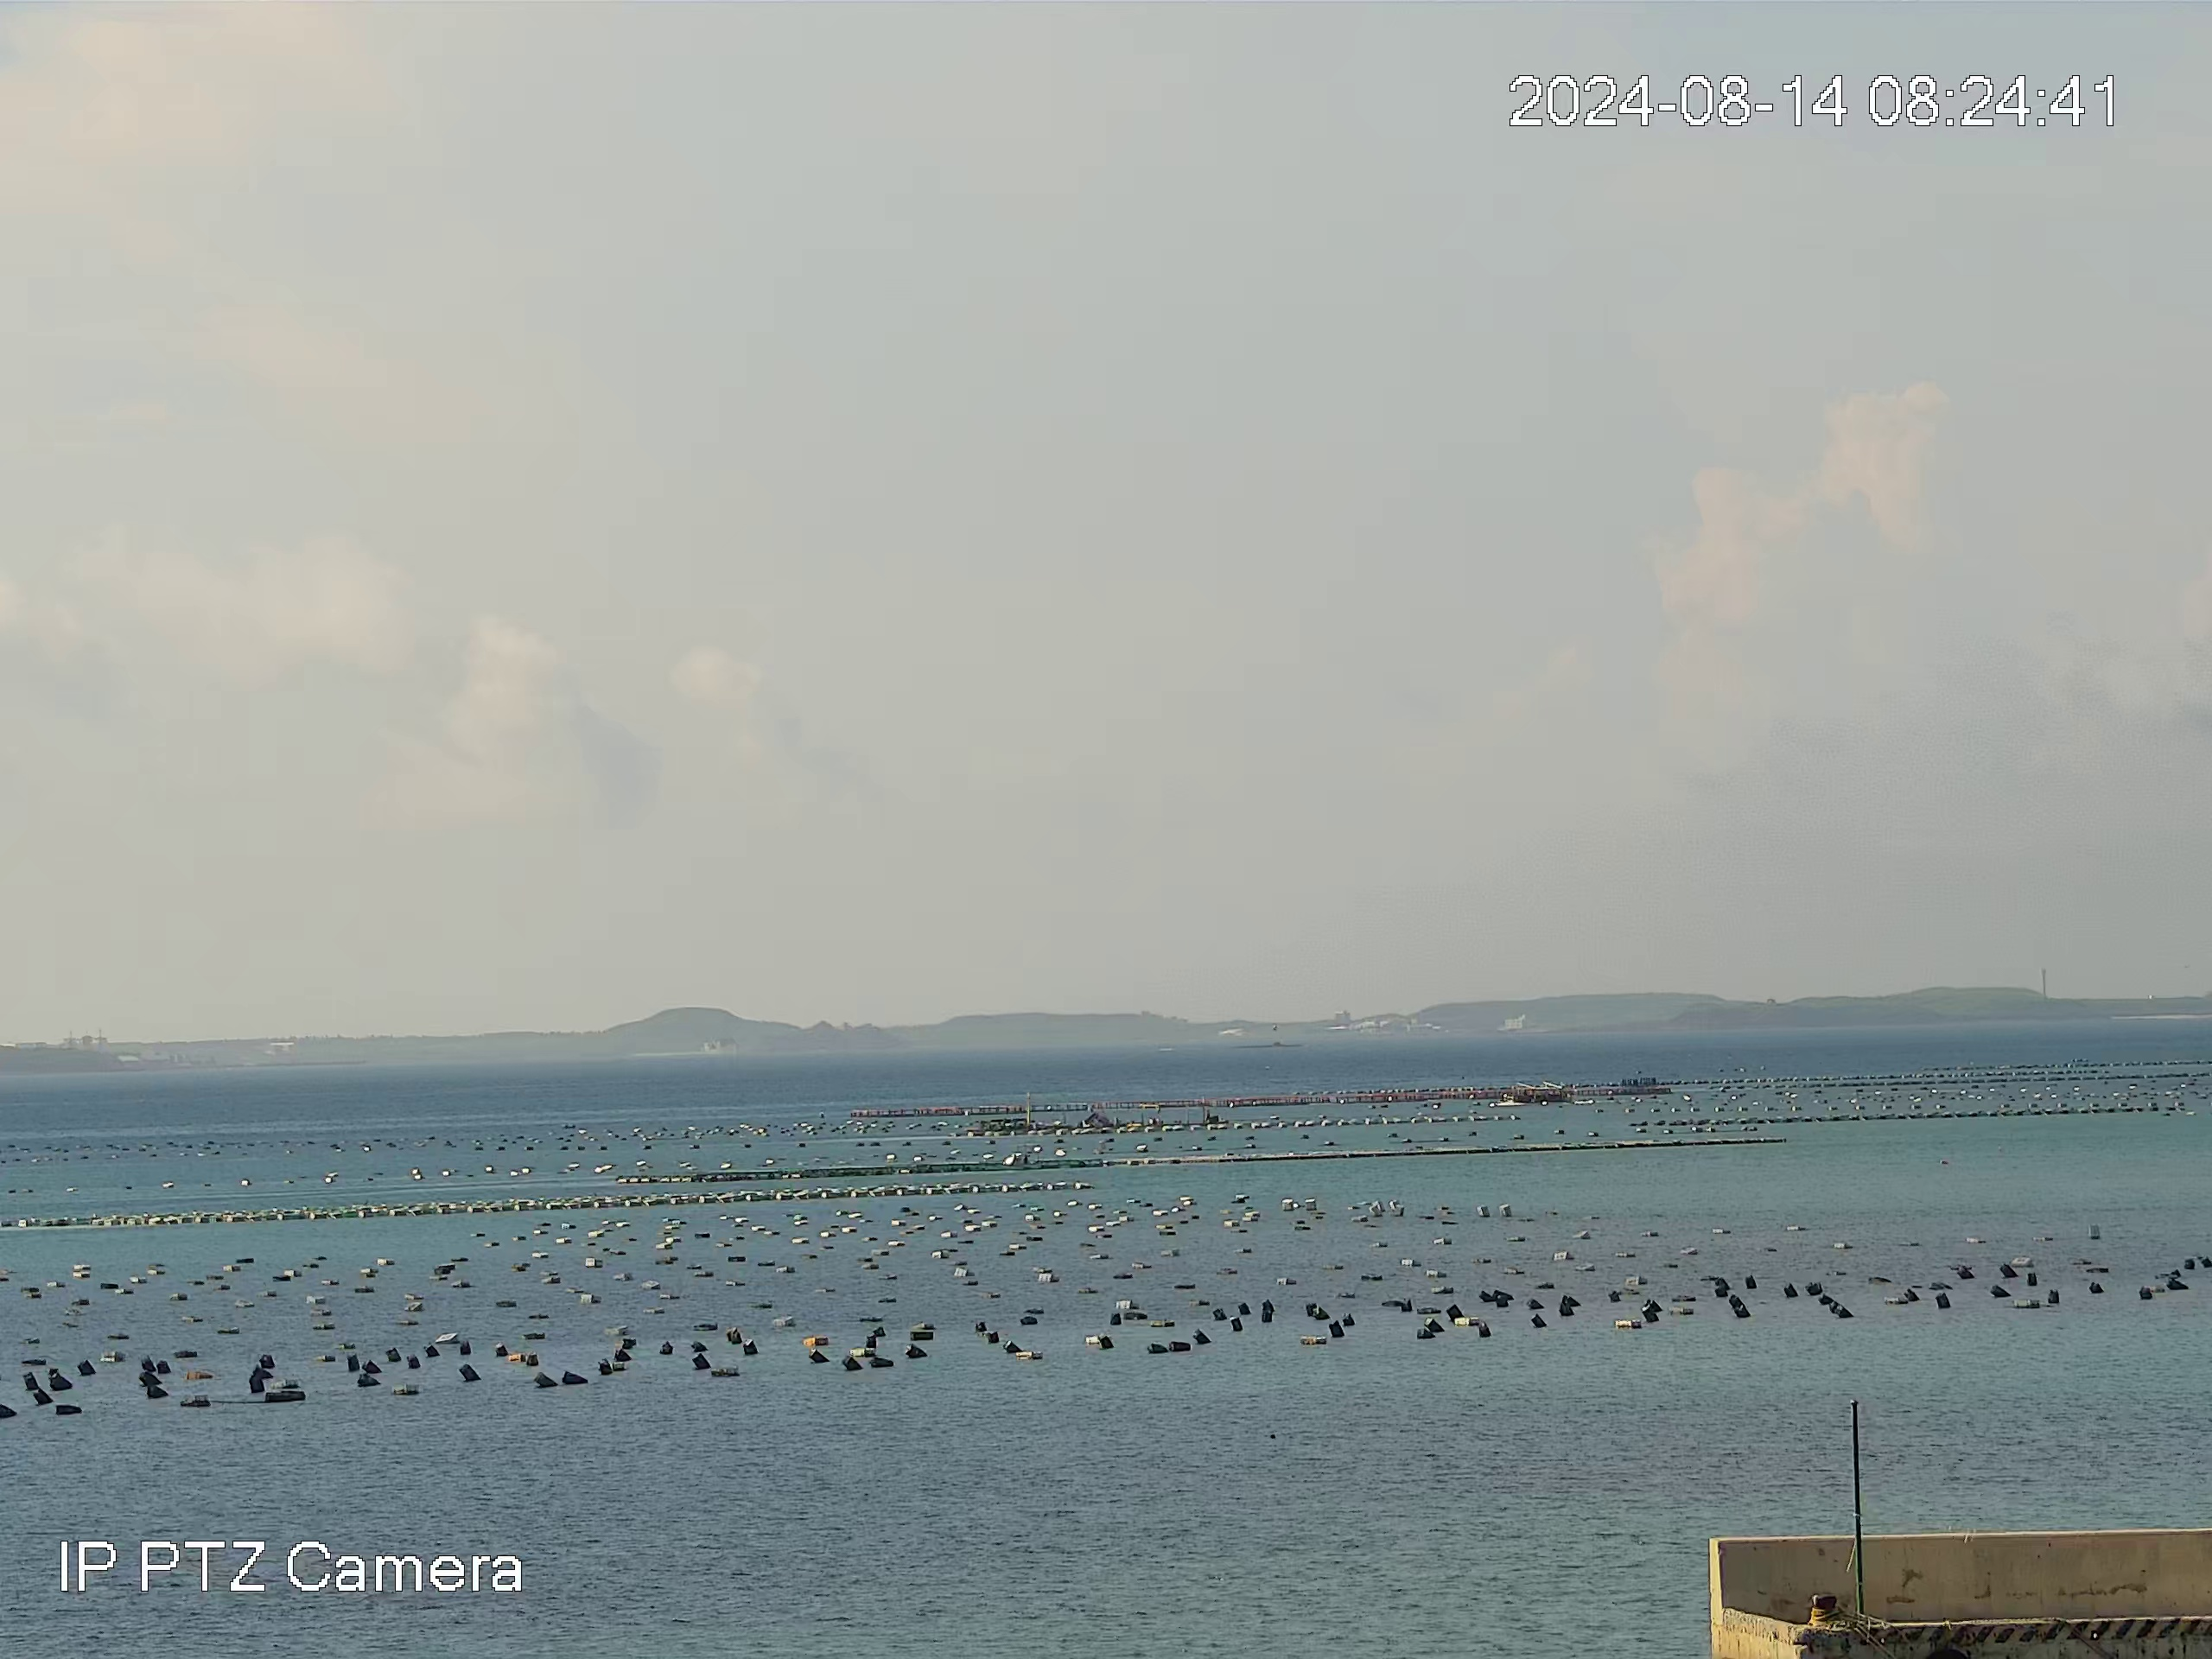boat: (1507, 1082, 1573, 1107)
